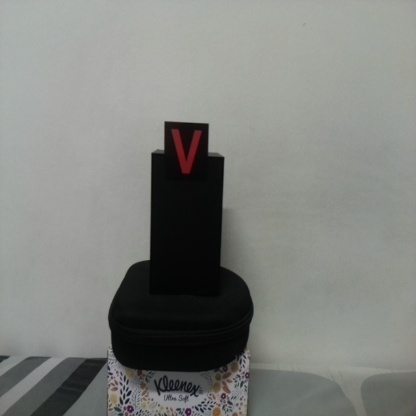id_11: (164, 122, 209, 193)
